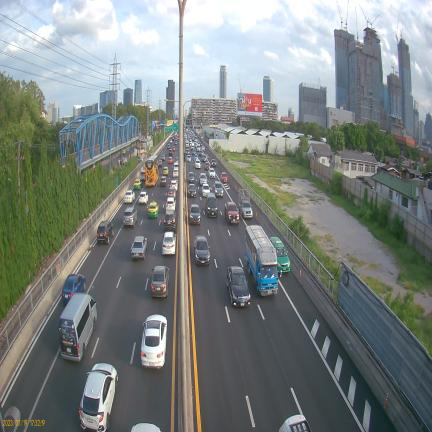bus: (145, 155, 158, 186)
car: (79, 363, 118, 431), (141, 315, 167, 369), (227, 266, 250, 306), (61, 274, 86, 304), (151, 266, 169, 297), (194, 236, 210, 264), (97, 221, 114, 244), (131, 236, 147, 260), (162, 231, 176, 255), (123, 207, 137, 228), (164, 210, 176, 230), (190, 204, 200, 224), (166, 196, 176, 212), (214, 181, 223, 197), (124, 190, 135, 203), (138, 191, 148, 204), (202, 183, 211, 197), (188, 183, 196, 197), (167, 186, 176, 198), (170, 179, 178, 192), (220, 172, 228, 183), (160, 176, 167, 187), (188, 172, 195, 183), (209, 167, 215, 178), (173, 168, 179, 178), (140, 171, 145, 182), (163, 166, 169, 175), (204, 161, 210, 170), (211, 159, 216, 167), (168, 148, 173, 156), (158, 159, 163, 167), (161, 154, 166, 161), (168, 157, 173, 164)
pickup: (224, 201, 239, 224), (199, 173, 207, 184), (195, 159, 201, 169)
taxi: (269, 237, 290, 273), (148, 201, 159, 218), (133, 178, 142, 190)
truck: (245, 225, 278, 296), (238, 189, 253, 218)
van: (59, 293, 97, 361), (205, 192, 218, 217)
